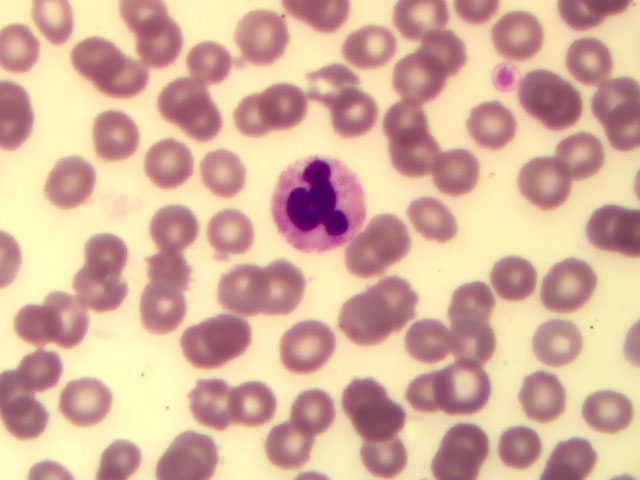Platelets: (489, 61, 521, 93)
RBC: (154, 426, 217, 480), (256, 426, 319, 480), (540, 426, 603, 480), (436, 426, 499, 480), (64, 32, 127, 85), (103, 57, 166, 110), (140, 16, 203, 69), (174, 36, 237, 89), (157, 76, 220, 129), (142, 139, 205, 192), (84, 113, 147, 166), (38, 151, 101, 204), (199, 145, 262, 198), (192, 207, 255, 260), (148, 200, 211, 253), (138, 239, 201, 292), (128, 280, 191, 333), (80, 228, 143, 281), (70, 253, 133, 306), (40, 291, 103, 344), (13, 344, 76, 397), (1, 374, 64, 427), (64, 378, 127, 431), (174, 376, 237, 429), (225, 380, 288, 433), (198, 311, 261, 364), (210, 261, 273, 314), (249, 261, 312, 314), (281, 320, 344, 373), (275, 389, 338, 442), (344, 378, 407, 431), (337, 293, 400, 346), (377, 271, 440, 324), (350, 229, 413, 282), (404, 192, 467, 245), (427, 150, 490, 203), (397, 130, 460, 183), (383, 98, 446, 151), (323, 83, 386, 136), (297, 65, 360, 118), (260, 89, 323, 142), (231, 13, 294, 66), (342, 25, 405, 78), (403, 20, 466, 73), (392, 48, 455, 101), (456, 96, 519, 149), (519, 69, 582, 122), (488, 10, 551, 63), (569, 31, 632, 84), (557, 134, 620, 187), (511, 157, 574, 210), (486, 251, 549, 304), (544, 255, 607, 308), (525, 322, 588, 375), (512, 368, 575, 421), (577, 386, 640, 439), (484, 424, 547, 477), (442, 356, 505, 409), (399, 362, 462, 415), (407, 311, 470, 364), (444, 316, 507, 369), (449, 270, 512, 323), (22, 1, 85, 53)
WBC: (265, 154, 374, 252)
